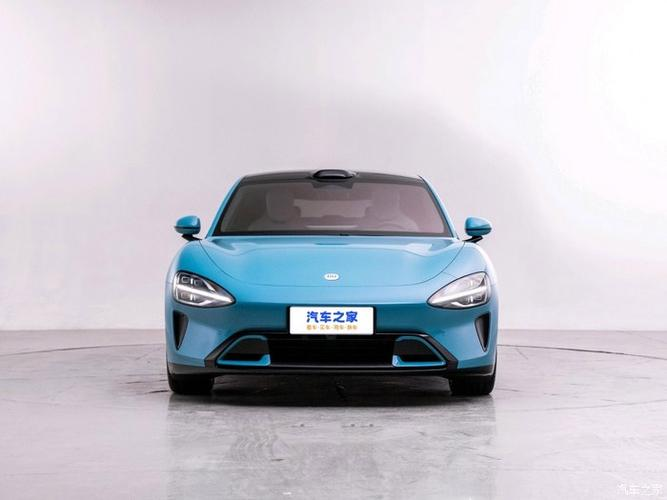汽车: (153, 153, 508, 411)
